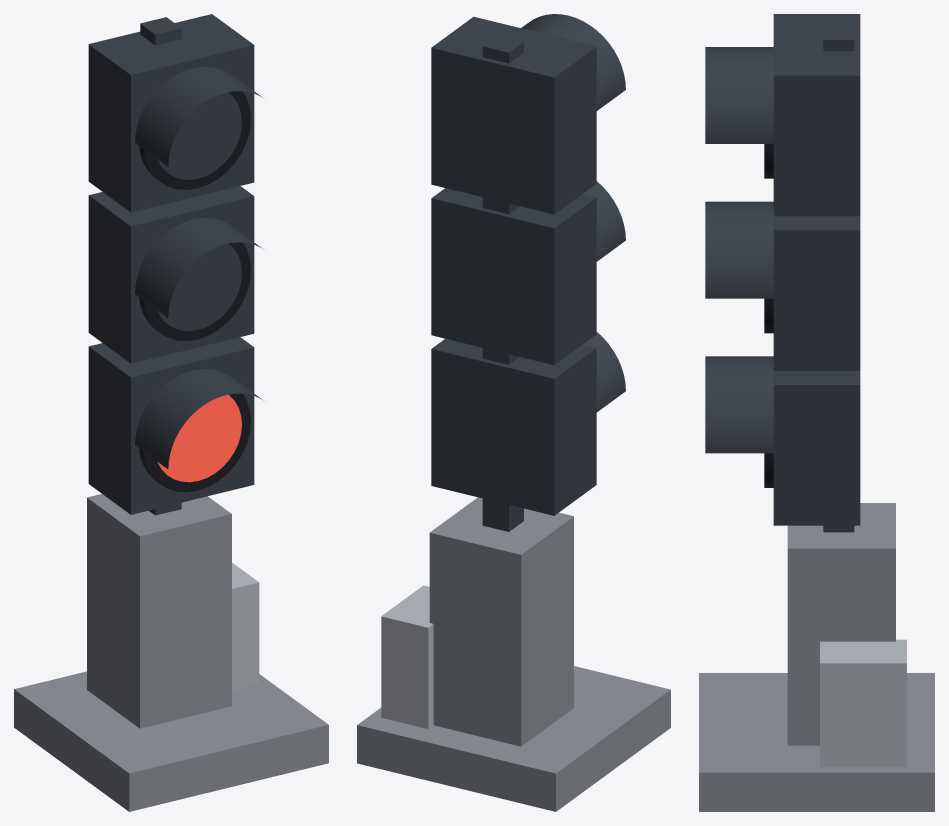
The model's file is rail-signal.glb.
3 renders of one model, left to right at view 1: azimuth 30°, elevation 25°; view 2: azimuth 150°, elevation 25°; view 3: azimuth 270°, elevation 25°, orthographic. The views are drawn at different scales.
Parts seen in each view (by area): view 1: RailSignal, signal-concrete-post, signal-concrete-base, signal-hood-0, signal-hood-2, signal-hood-1, signal-lamp-0, signal-lamp-1, signal-lamp-2; view 2: RailSignal, signal-concrete-post, signal-concrete-base, signal-hood-2, signal-hood-0, signal-hood-1; view 3: RailSignal, signal-concrete-base, signal-concrete-post, signal-hood-0, signal-hood-1, signal-hood-2.
Boxes of the visible parts, x1,y1,x2,y2 form: RailSignal: [88, 14, 259, 690]; signal-concrete-post: [87, 494, 231, 728]; signal-concrete-base: [14, 671, 328, 811]; signal-hood-0: [135, 369, 263, 469]; signal-hood-2: [135, 66, 262, 166]; signal-hood-1: [135, 218, 263, 317]; signal-lamp-0: [157, 394, 241, 482]; signal-lamp-1: [157, 243, 241, 330]; signal-lamp-2: [157, 92, 241, 179]; RailSignal: [381, 16, 596, 728]; signal-concrete-post: [429, 497, 573, 746]; signal-concrete-base: [357, 666, 670, 811]; signal-hood-2: [521, 14, 625, 110]; signal-hood-0: [583, 332, 625, 412]; signal-hood-1: [583, 181, 625, 261]; RailSignal: [764, 14, 906, 767]; signal-concrete-base: [699, 673, 934, 811]; signal-concrete-post: [787, 503, 895, 745]; signal-hood-0: [705, 356, 773, 453]; signal-hood-1: [705, 201, 773, 298]; signal-hood-2: [705, 47, 773, 143].
Bounding box in the file's own units: 0.2934 × 1 × 0.2934.
